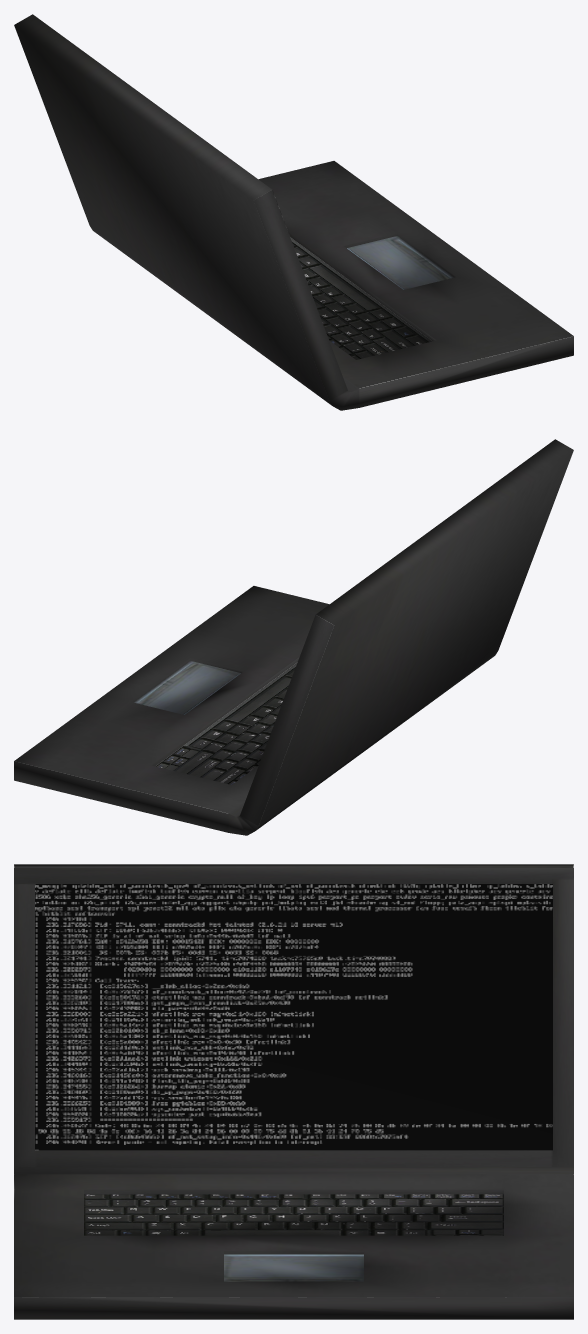
File: ServerV2+console.obj
3 views of the same model, one above another, from view 1: azimuth 30°, elevation 25°; view 2: azimuth 150°, elevation 25°; view 3: azimuth 270°, elevation 25° (orthographic). The views are drawn at different scales.
Visible parts, largest first — view 1: console_console_auv; view 2: console_console_auv; view 3: console_console_auv.
Boxes of the visible parts, <box> form: console_console_auv: <box>14,14,573,410</box>; console_console_auv: <box>14,439,573,835</box>; console_console_auv: <box>14,864,573,1319</box>.
Size of the model in its own units: 2.16 by 1.54 by 2.8.
